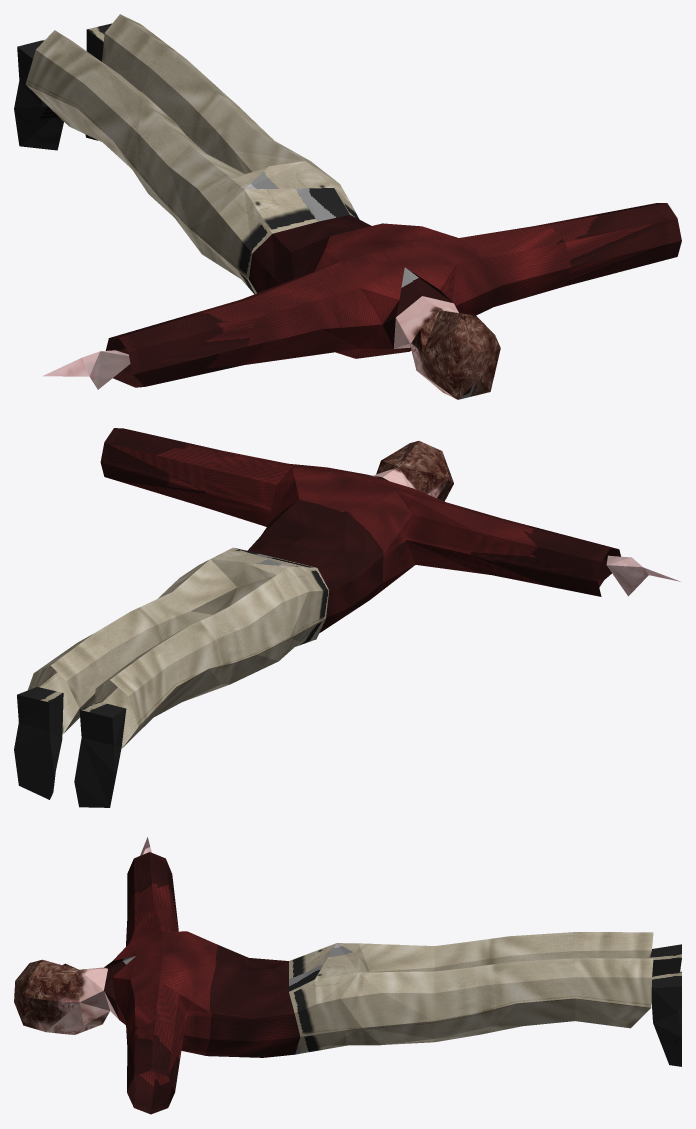
File: tomdrinman1longsleavelow_wtf.obj
The picture shows the model from 3 angles, top to bottom: view 1: azimuth 30°, elevation 25°; view 2: azimuth 150°, elevation 25°; view 3: azimuth 270°, elevation 25°; orthographic projection. The views are drawn at different scales.
Parts seen in each view (by area): view 1: group1, group2; view 2: group1, group2; view 3: group1.
Part boxes in pixels (x1,y1,x2,y2): group1: (14, 14, 681, 399); group2: (42, 350, 130, 389); group1: (14, 428, 620, 807); group2: (606, 555, 680, 596); group1: (14, 852, 681, 1114).
Bounding box in the file's own units: 583 × 118 × 660.
